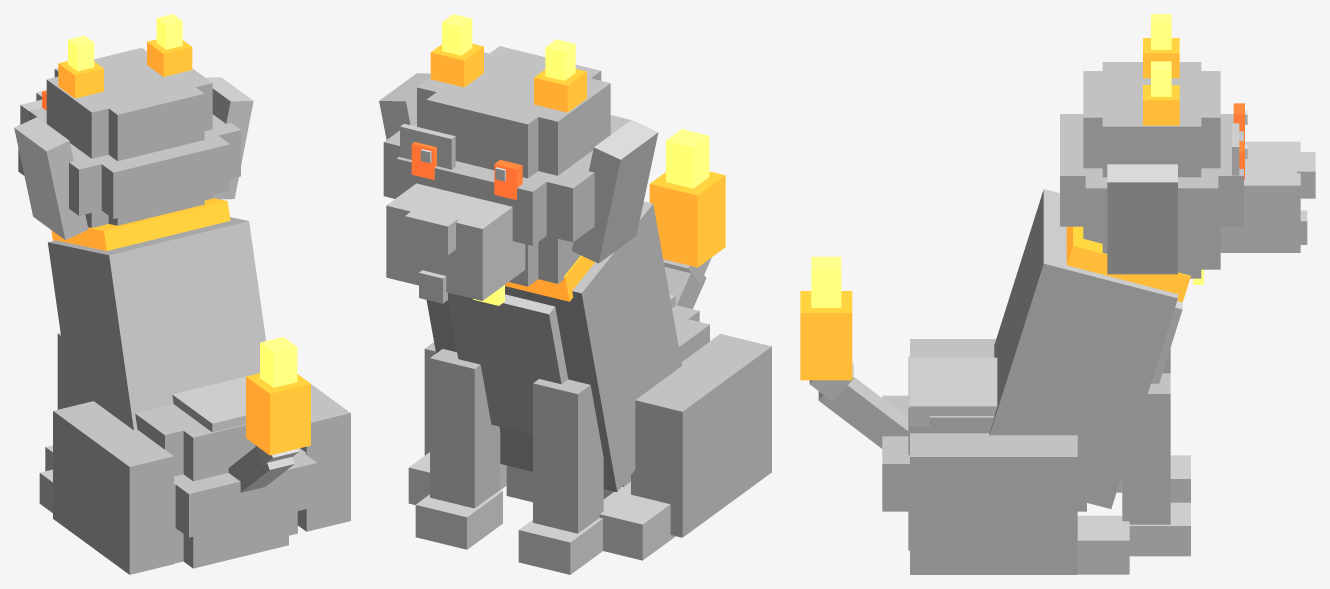
File: Hellhound.fbx
The picture shows the model from 3 angles, left to right: view 1: azimuth 30°, elevation 25°; view 2: azimuth 150°, elevation 25°; view 3: azimuth 270°, elevation 25°; orthographic projection. The views are drawn at different scales.
Parts seen in each view (by area): view 1: Hellhound_body_10, Hellhound_legBL_7, Hellhound_head_22, Hellhound_head_23, Hellhound_body_3, Hellhound_head_24, Hellhound_legBR_6, Hellhound_earL_34, Hellhound_tail_37, Hellhound_body_17, Hellhound_body_5, Hellhound_body_1 (+14 smaller); view 2: Hellhound_body_10, Hellhound_legBL_7, Hellhound_body_11, Hellhound_head_25, Hellhound_legFL_14, Hellhound_legFR_13, Hellhound_head_23, Hellhound_head_24, Hellhound_earL_34, Hellhound_tail_37, Hellhound_head_22, Hellhound_head_21 (+22 smaller); view 3: Hellhound_body_10, Hellhound_legBR_6, Hellhound_earR_33, Hellhound_head_23, Hellhound_head_25, Hellhound_head_24, Hellhound_legFR_13, Hellhound_body_12, Hellhound_head_22, Hellhound_head_21, Hellhound_tail_37, Hellhound_legBR_8 (+16 smaller).
Part boxes in pixels (x1,y1,x2,y2): Hellhound_body_10: [47, 217, 265, 430]; Hellhound_legBL_7: [53, 401, 173, 574]; Hellhound_head_22: [29, 108, 229, 218]; Hellhound_head_23: [46, 55, 212, 158]; Hellhound_body_3: [174, 449, 317, 537]; Hellhound_head_24: [54, 47, 204, 160]; Hellhound_legBR_6: [297, 384, 350, 531]; Hellhound_earL_34: [14, 117, 88, 240]; Hellhound_tail_37: [246, 373, 310, 455]; Hellhound_body_17: [51, 198, 230, 250]; Hellhound_body_5: [154, 404, 255, 481]; Hellhound_body_1: [183, 513, 288, 568]; Hellhound_body_10: [426, 201, 682, 491]; Hellhound_legBL_7: [631, 334, 771, 537]; Hellhound_body_11: [448, 292, 568, 434]; Hellhound_head_25: [386, 183, 525, 300]; Hellhound_legFL_14: [533, 379, 603, 533]; Hellhound_legFR_13: [430, 349, 500, 508]; Hellhound_head_23: [417, 52, 610, 175]; Hellhound_head_24: [426, 46, 601, 178]; Hellhound_earL_34: [571, 119, 658, 263]; Hellhound_tail_37: [649, 171, 725, 267]; Hellhound_head_22: [396, 115, 630, 245]; Hellhound_head_21: [383, 124, 616, 242]; Hellhound_body_10: [989, 189, 1177, 508]; Hellhound_legBR_6: [910, 433, 1077, 574]; Hellhound_earR_33: [1107, 164, 1177, 274]; Hellhound_head_23: [1102, 62, 1201, 177]; Hellhound_head_25: [1220, 141, 1300, 252]; Hellhound_head_24: [1083, 71, 1220, 168]; Hellhound_legFR_13: [1122, 373, 1170, 524]; Hellhound_body_12: [910, 357, 997, 426]; Hellhound_head_22: [1060, 114, 1243, 226]; Hellhound_head_21: [1085, 168, 1218, 238]; Hellhound_tail_37: [800, 291, 852, 380]; Hellhound_legBR_8: [1077, 515, 1129, 574].
Bounding box in the file's own units: 150 × 287 × 277.
